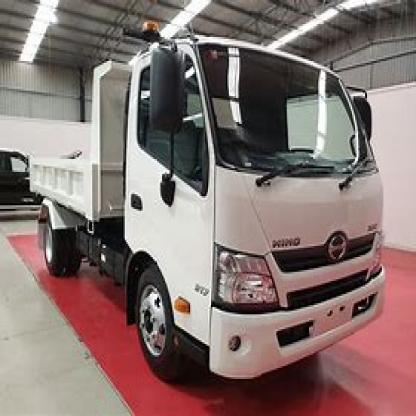dump_truck: (26, 20, 390, 386)
